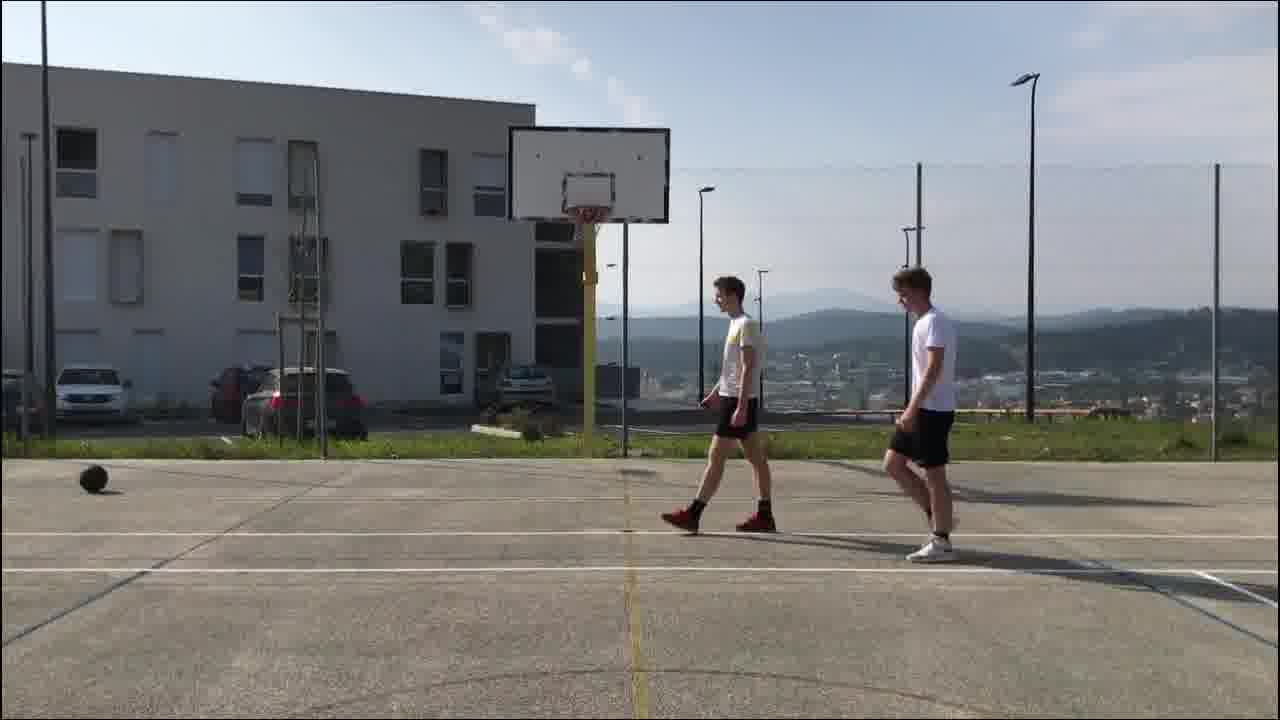jugador: (655, 263, 787, 549)
